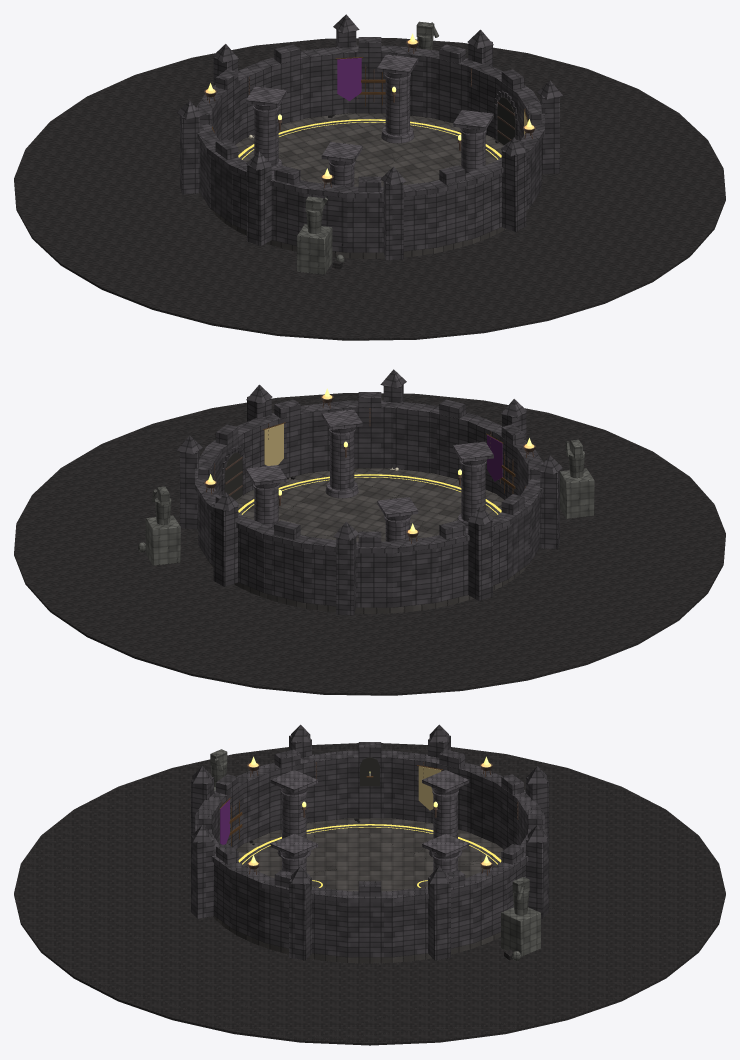
The model's file is stone_arena.glb.
3 views of the same model, one above another, from view 1: azimuth 30°, elevation 25°; view 2: azimuth 150°, elevation 25°; view 3: azimuth 270°, elevation 25° (orthographic).
Visible parts, largest first — view 1: Arena_Structure, Arena_Props; view 2: Arena_Structure, Arena_Props; view 3: Arena_Structure, Arena_Props.
Part boxes in pixels (box(x1,y1,x2,y2)): Arena_Structure: box(14, 14, 725, 340); Arena_Props: box(204, 21, 535, 274); Arena_Structure: box(14, 369, 725, 695); Arena_Props: box(138, 388, 594, 565); Arena_Structure: box(14, 724, 725, 1045); Arena_Props: box(210, 749, 540, 960).
Bounding box in the file's own units: 32 × 4.95 × 32.
14 materials, 7 textured.
